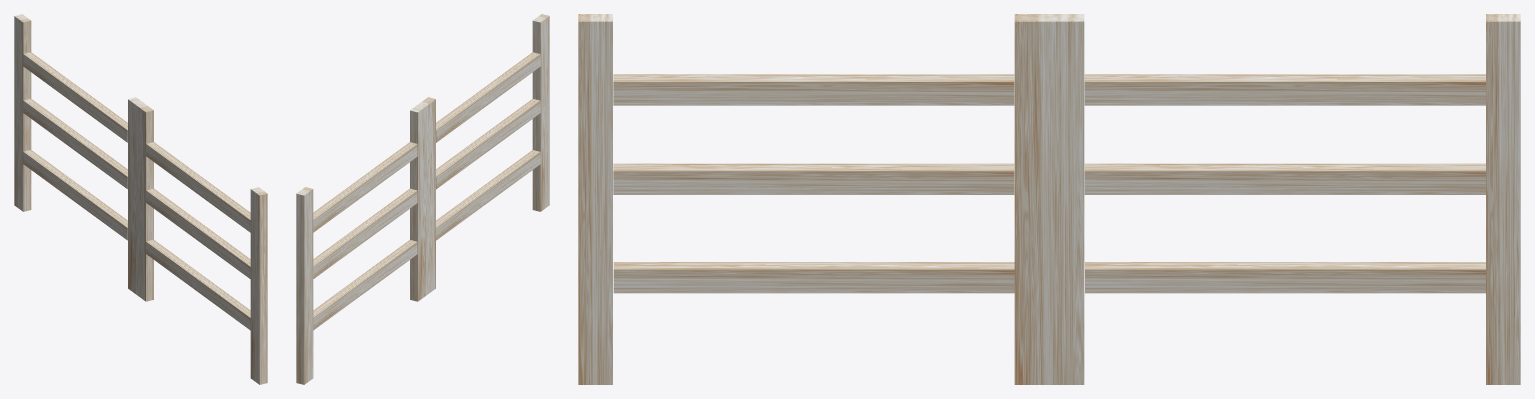
Rendered from cerca 1.fbx.
3 renders of one model, left to right at view 1: azimuth 30°, elevation 25°; view 2: azimuth 150°, elevation 25°; view 3: azimuth 270°, elevation 25°, orthographic. The views are drawn at different scales.
Visible parts, largest first — view 1: Cube; view 2: Cube; view 3: Cube.
Part boxes in pixels (x1,y1,x2,y2): Cube: [14, 14, 267, 384]; Cube: [296, 14, 549, 384]; Cube: [578, 14, 1520, 384].
Bounding box in the file's own units: 8.89 × 200 × 470.
